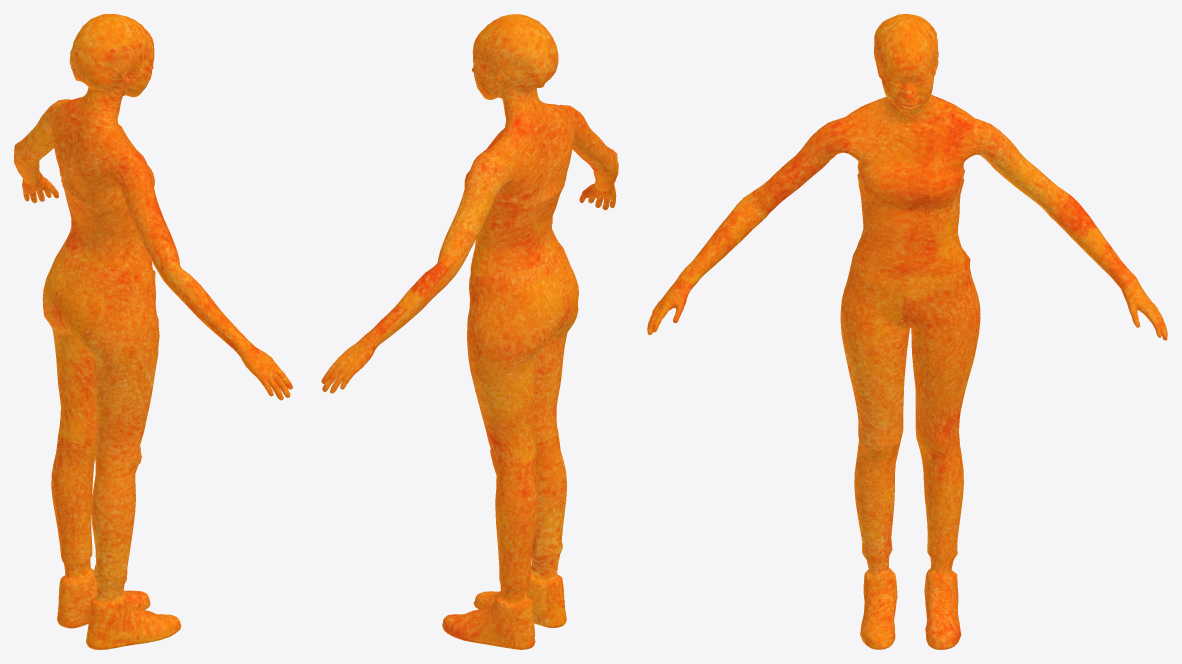
File: freegirl.gltf
3 views of the same model, side by side, from view 1: azimuth 30°, elevation 25°; view 2: azimuth 150°, elevation 25°; view 3: azimuth 270°, elevation 25° (orthographic).
Visible parts, largest first — view 1: rp_alison_rigged_001_geo.002; view 2: rp_alison_rigged_001_geo.002; view 3: rp_alison_rigged_001_geo.002.
Boxes of the visible parts, box(x1,y1,x2,y2) form: rp_alison_rigged_001_geo.002: box(14, 14, 292, 649); rp_alison_rigged_001_geo.002: box(321, 14, 618, 649); rp_alison_rigged_001_geo.002: box(647, 14, 1167, 649).
Bounding box in the file's own units: 35.15 × 170 × 132.
Materials: 1 (1 with a texture image).
